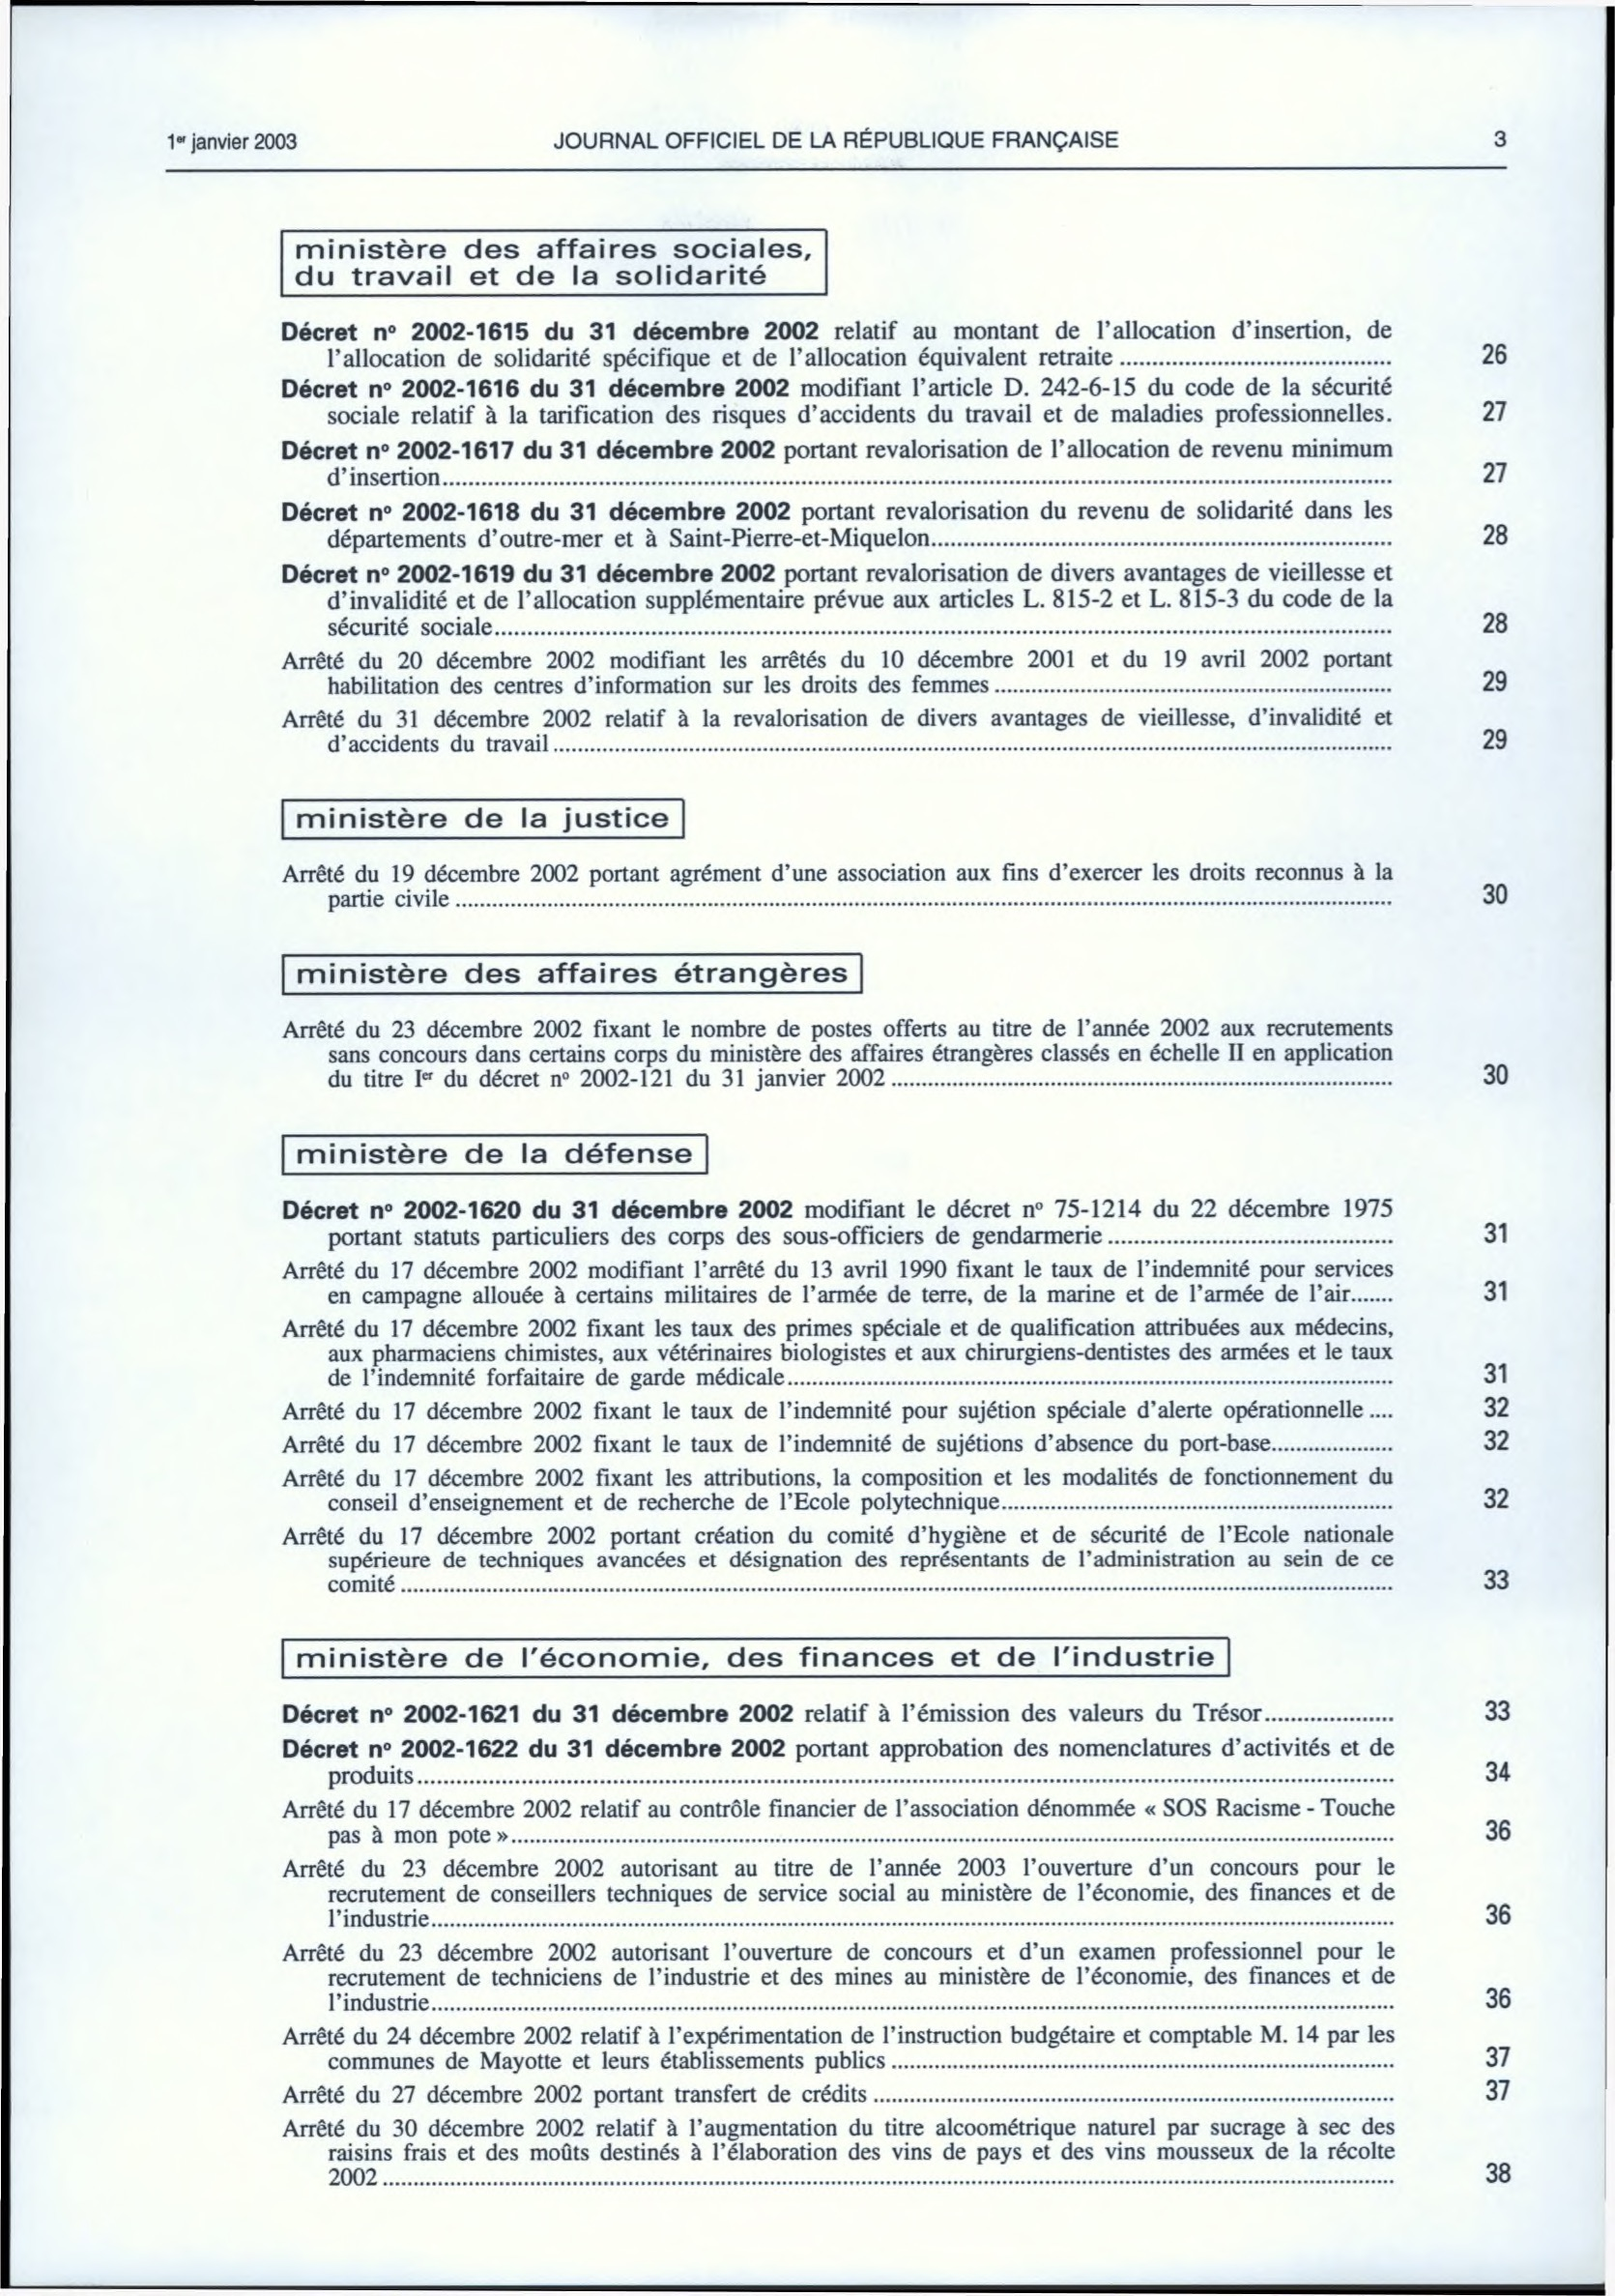MainZone-Date: (161, 124, 306, 161)
QuireMarksZone: (262, 212, 1542, 2203)
StampZone: (542, 115, 1133, 161)
TitlePageZone: (1489, 117, 1512, 157)
